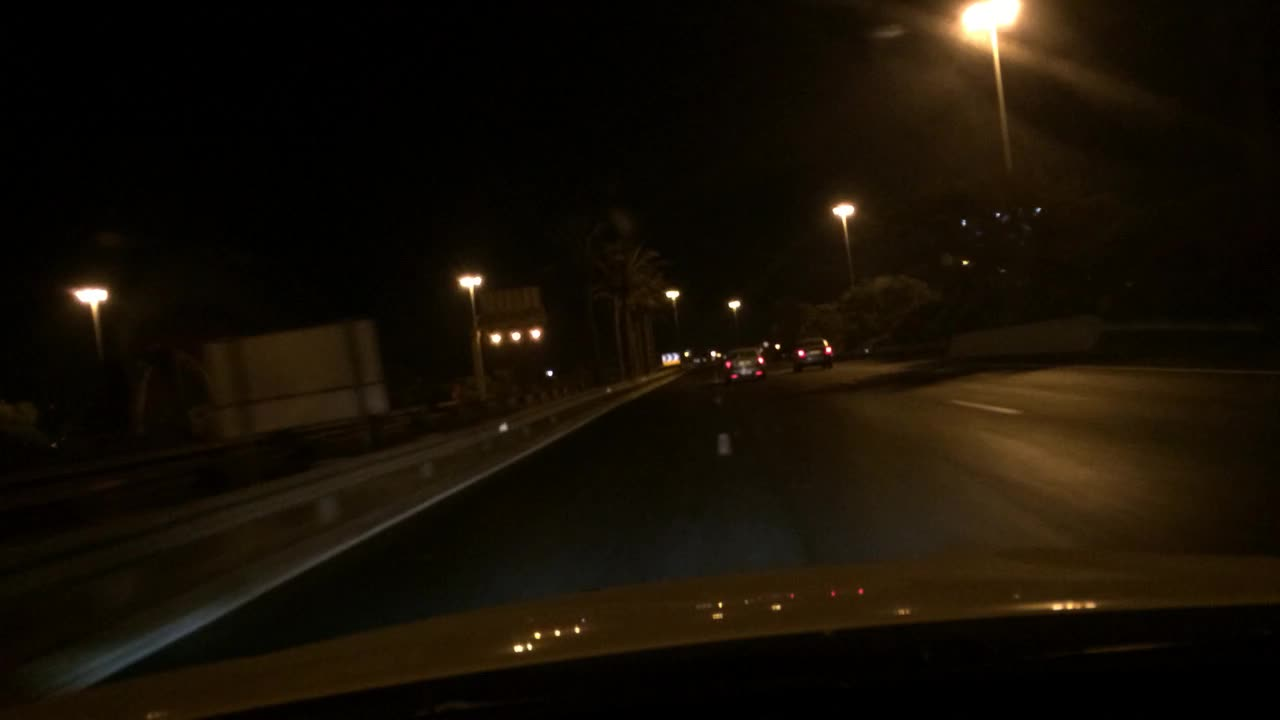car: (718, 344, 767, 384), (788, 330, 836, 369)
traffic sign: (205, 315, 391, 441), (659, 350, 681, 367)
